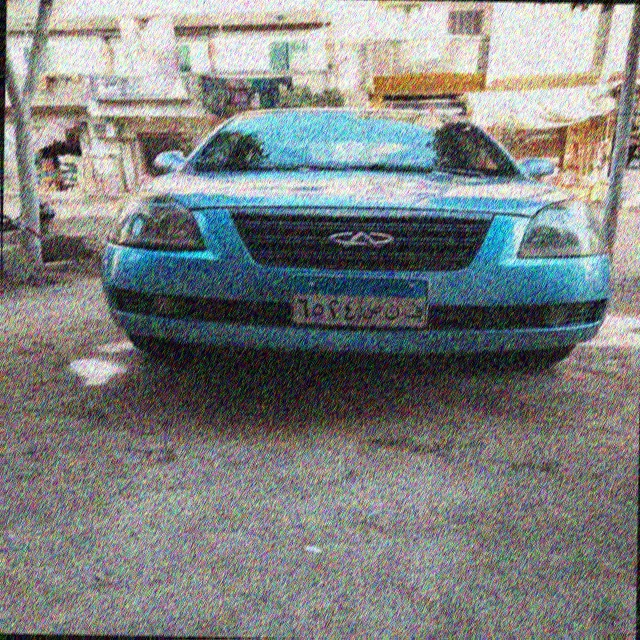License Plate: (287, 273, 431, 331)
